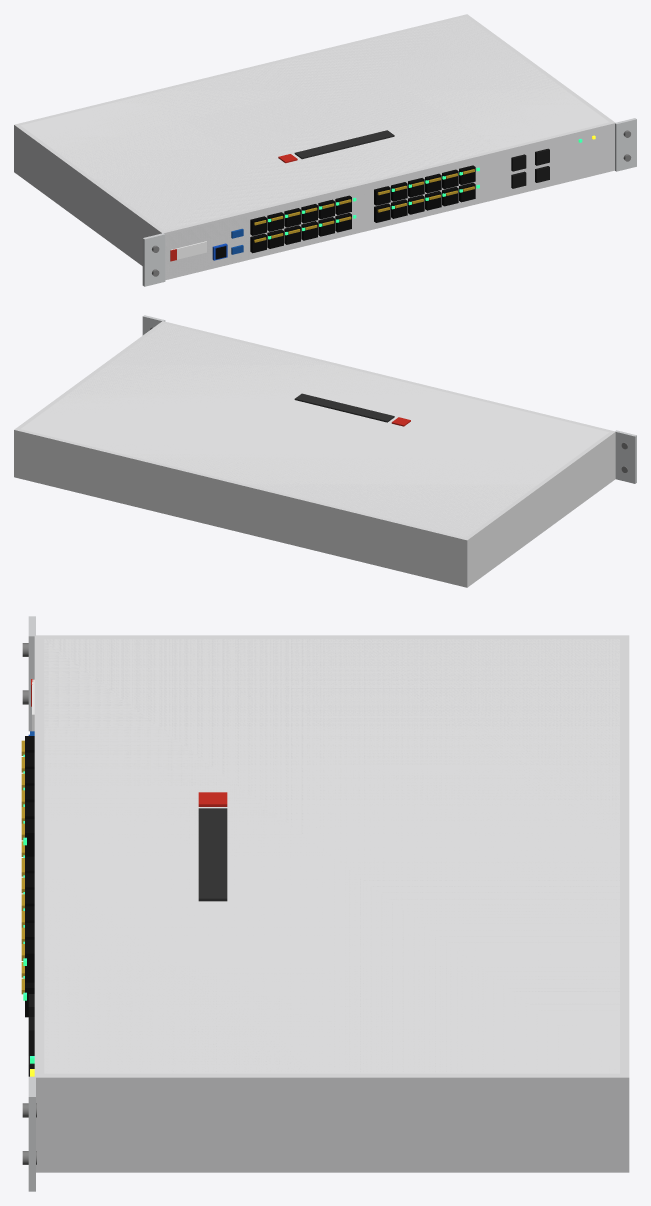
File: 04-fortinet-fortigate-firewall.glb
3 renders of one model, top to bottom at view 1: azimuth 30°, elevation 25°; view 2: azimuth 150°, elevation 25°; view 3: azimuth 270°, elevation 25°, orthographic. The views are drawn at different scales.
Bounding box in the file's own units: 0.478 × 0.0454 × 0.2555.
